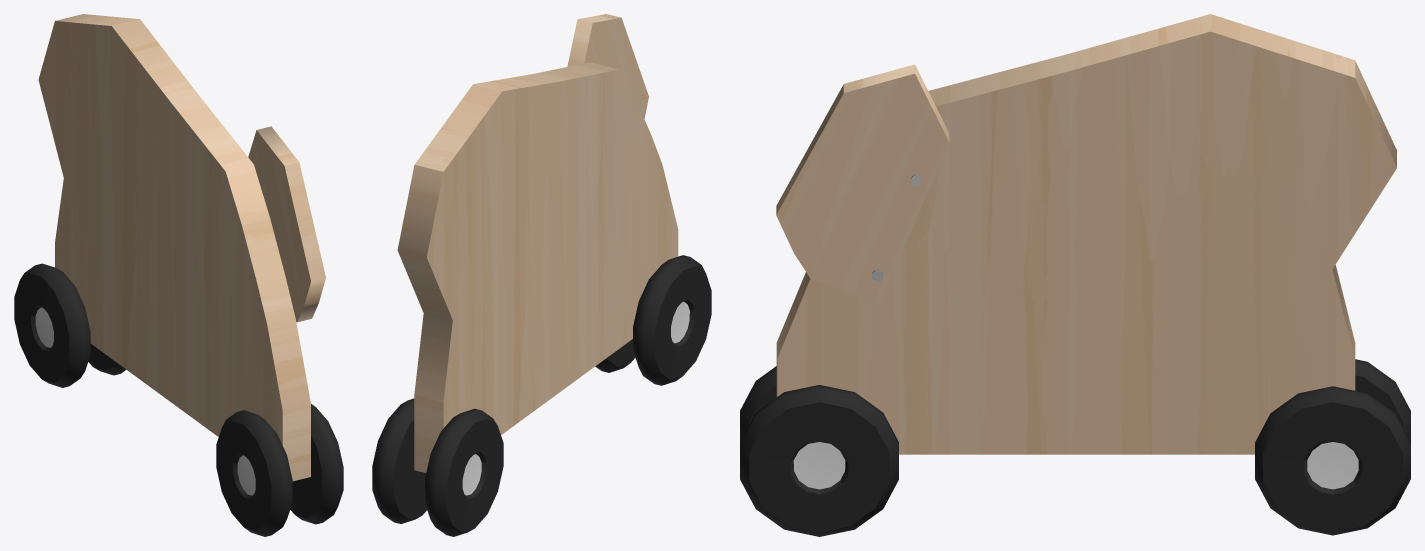
File: dogcutout.fbx
The picture shows the model from 3 angles, left to right: view 1: azimuth 30°, elevation 25°; view 2: azimuth 150°, elevation 25°; view 3: azimuth 270°, elevation 25°; orthographic projection. The views are drawn at different scales.
Parts seen in each view (by area): view 1: polySurface18; view 2: polySurface18; view 3: polySurface18.
Part boxes in pixels (x1,y1,x2,y2): polySurface18: (14,14,343,536); polySurface18: (372,14,711,536); polySurface18: (740,14,1410,536).
Size of the model in its own units: 1.04 by 5.37 by 6.58.
